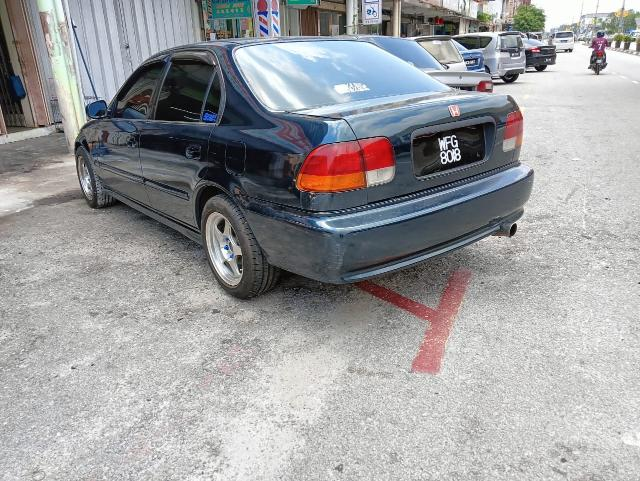License_Plate: (430, 130, 475, 174)
car: (69, 33, 535, 306)
